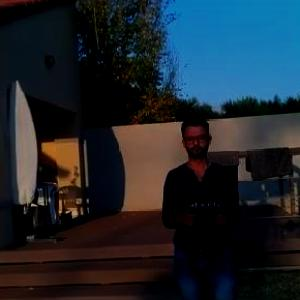follow: (160, 111, 252, 299)
